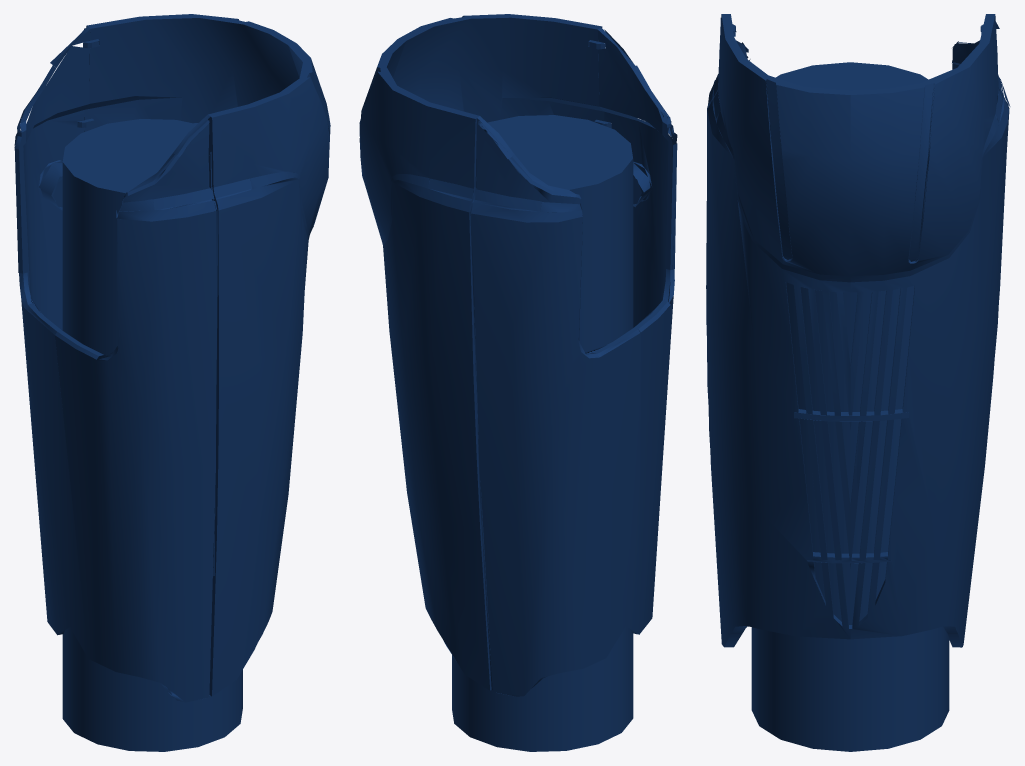
The model's file is icub_l_shank.dae.
The picture shows the model from 3 angles, left to right: view 1: azimuth 30°, elevation 25°; view 2: azimuth 150°, elevation 25°; view 3: azimuth 270°, elevation 25°; orthographic projection. The views are drawn at different scales.
Visible parts, largest first — view 1: l_lowerleg_mesh, l_shank_cyl_mesh; view 2: l_lowerleg_mesh, l_shank_cyl_mesh; view 3: l_lowerleg_mesh, l_shank_cyl_mesh.
Boxes of the visible parts, x1,y1,x2,y2 form: l_lowerleg_mesh: (14, 14, 330, 702); l_shank_cyl_mesh: (62, 119, 242, 751); l_lowerleg_mesh: (359, 14, 677, 696); l_shank_cyl_mesh: (452, 115, 633, 751); l_lowerleg_mesh: (706, 14, 1010, 647); l_shank_cyl_mesh: (751, 62, 949, 751).
Size of the model in its own units: 0.1035 by 0.2446 by 0.097.
